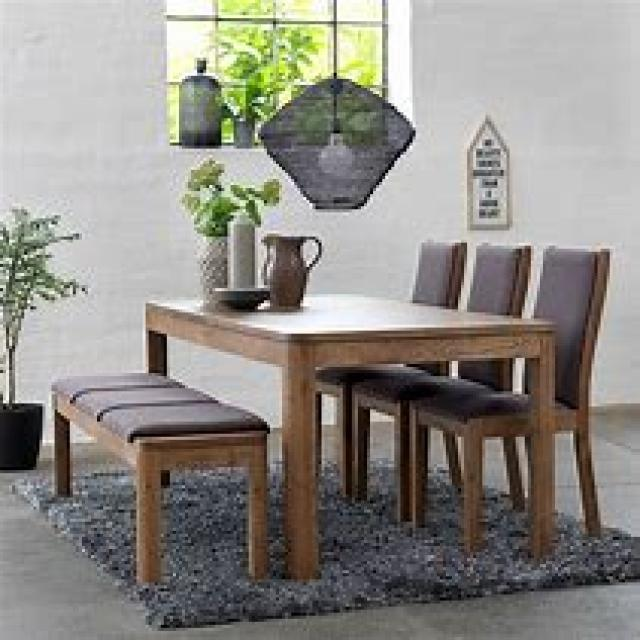chair: (410, 243, 610, 561), (349, 239, 531, 522)
table: (143, 288, 558, 579)
